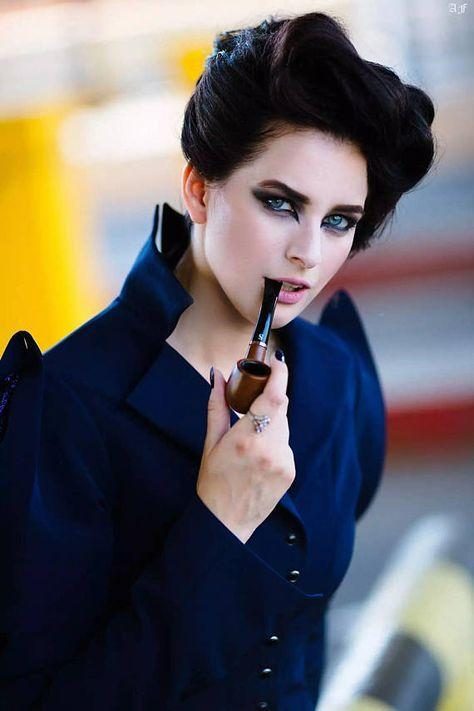trubka: (226, 279, 280, 414)
